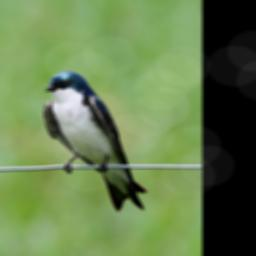Swallow: (42, 70, 148, 212)
